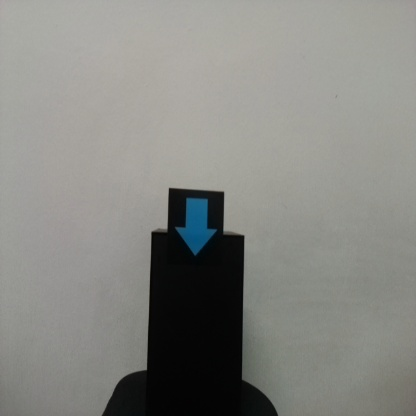id_2: (167, 189, 225, 272)
